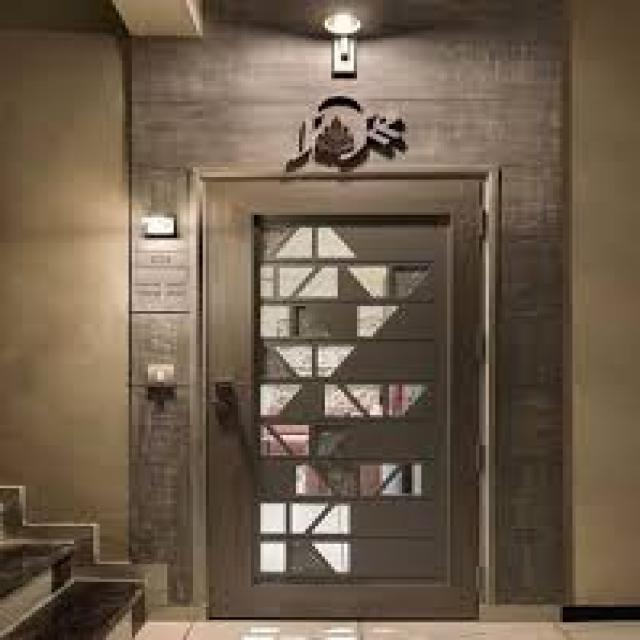door: (213, 177, 478, 621)
